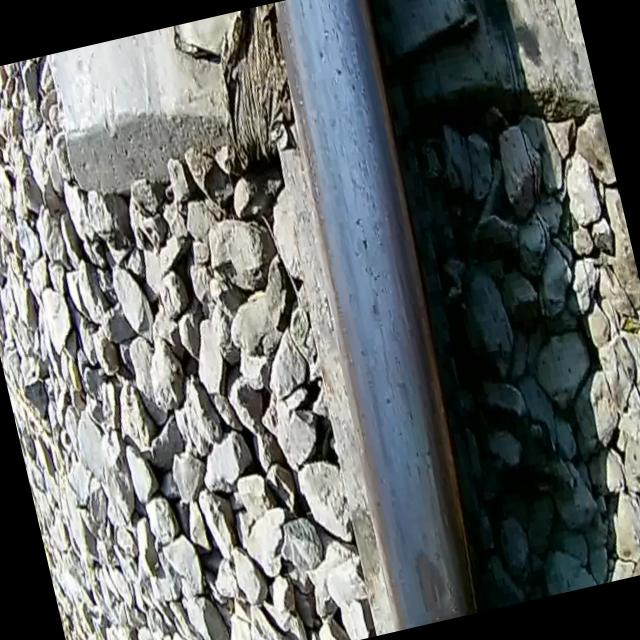Squats: (403, 539, 456, 618), (414, 600, 464, 626)
